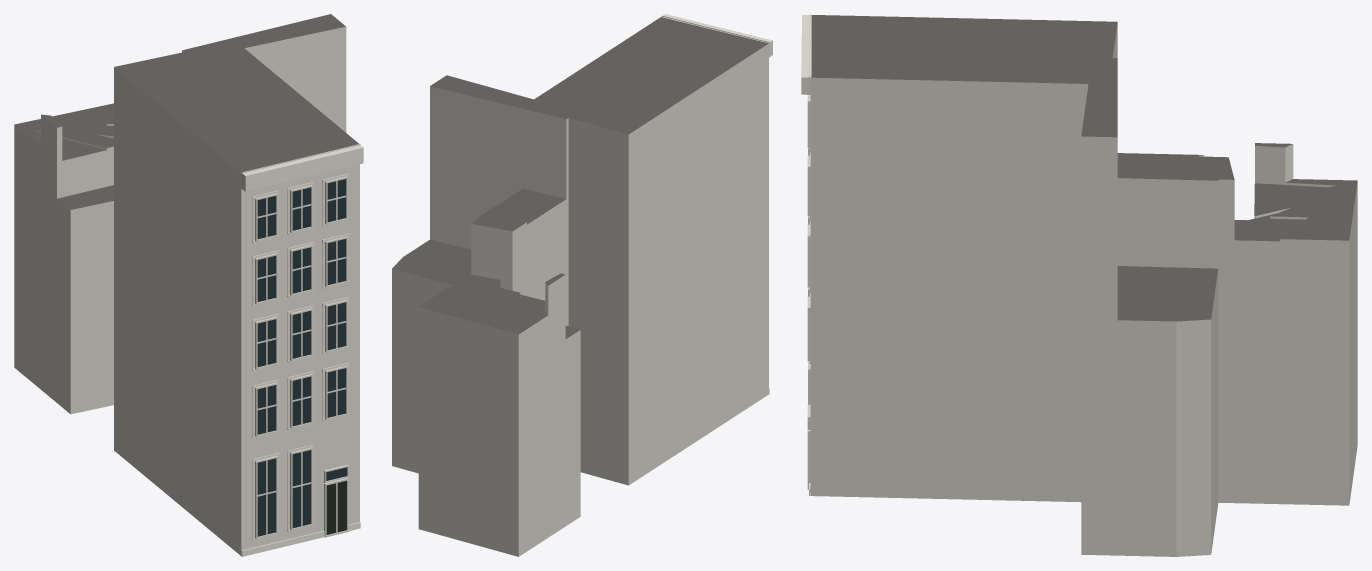
3 views of the same model, side by side, from view 1: azimuth 30°, elevation 25°; view 2: azimuth 150°, elevation 25°; view 3: azimuth 270°, elevation 25° (orthographic). The views are drawn at different scales.
Parts seen in each view (by area): view 1: spec-0363100012177179; view 2: spec-0363100012177179; view 3: spec-0363100012177179.
Part boxes in pixels (bbox=[...]): spec-0363100012177179: bbox=[14, 14, 363, 556]; spec-0363100012177179: bbox=[392, 14, 772, 556]; spec-0363100012177179: bbox=[801, 14, 1357, 556].
Size of the model in its own units: 12.34 by 19.49 by 23.44.
